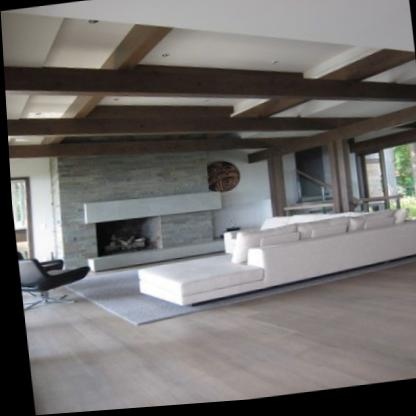Wooden floor: (21, 293, 416, 416), (154, 265, 416, 322), (22, 285, 130, 338), (82, 252, 227, 276)
